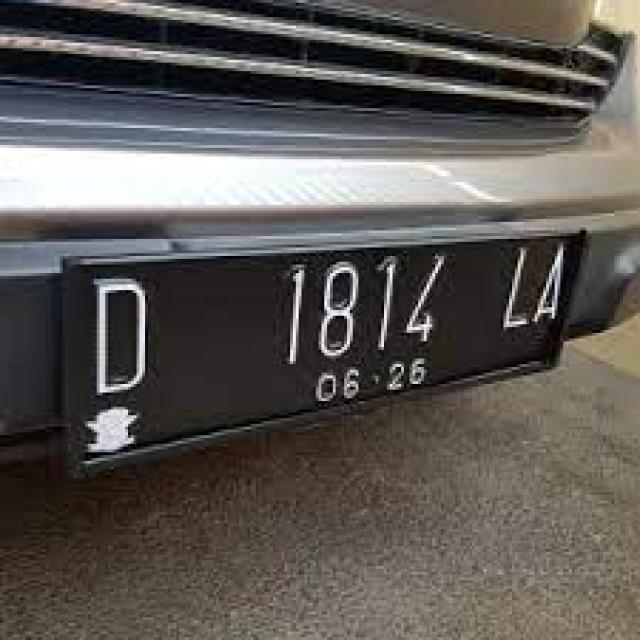license-plat: (43, 222, 613, 494)
